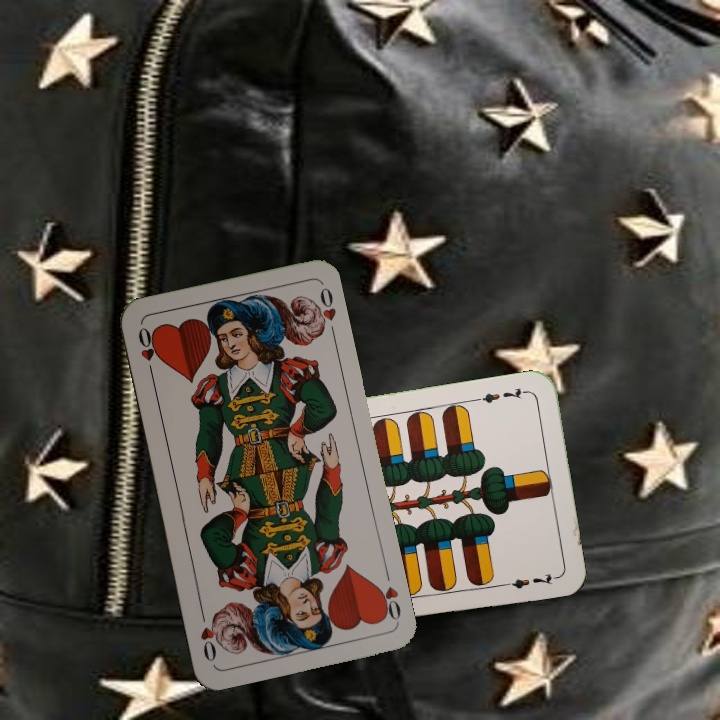E7: (472, 383, 531, 406)
HO: (372, 566, 404, 623), (134, 323, 158, 381)
